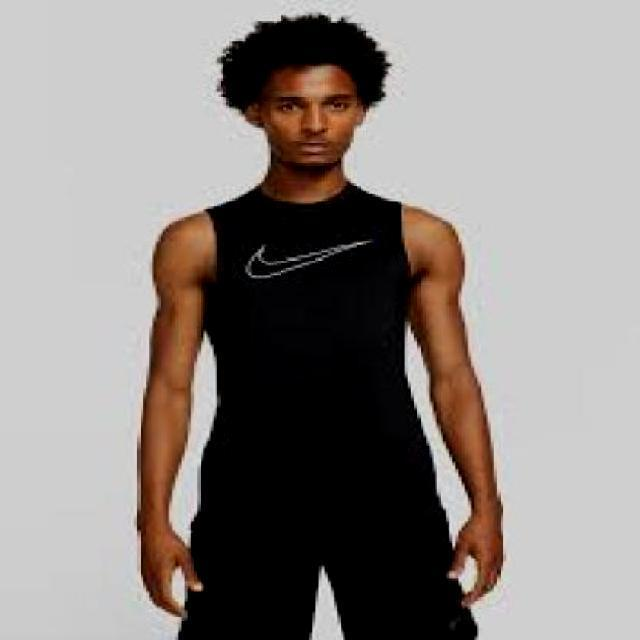no_vest: (199, 182, 453, 522)
